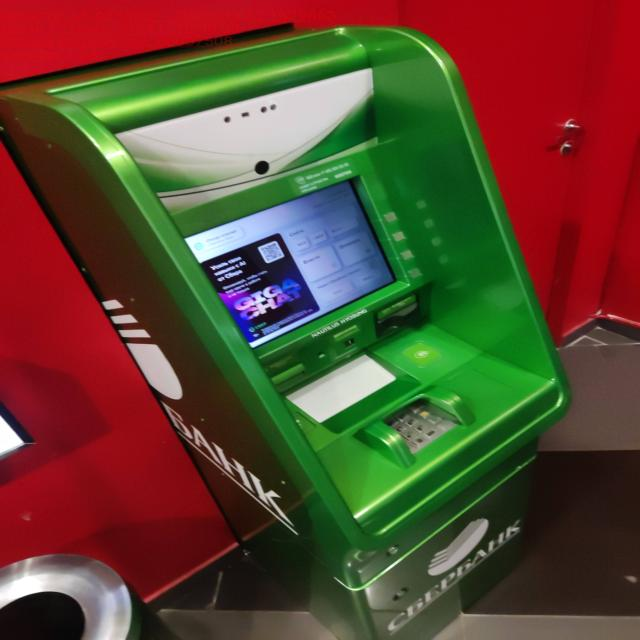bank: (0, 25, 557, 640)
